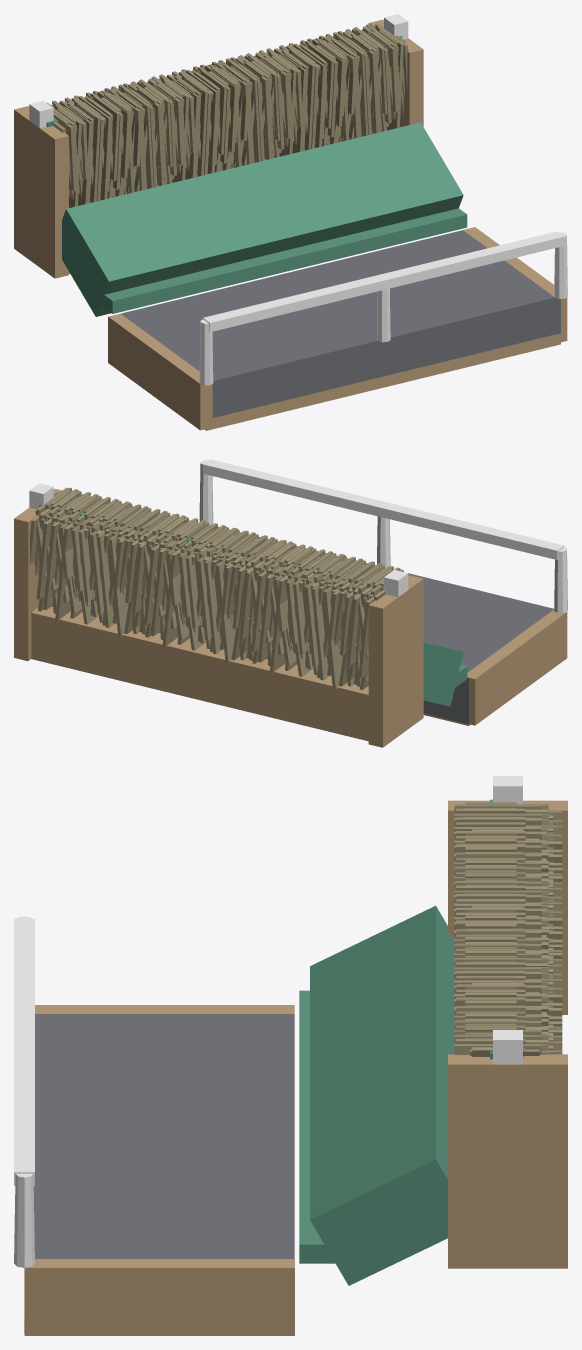
Rendered from racecourse-and-parade-ring-open-ditch-a25d2b48__38598.glb.
3 renders of one model, top to bottom at view 1: azimuth 30°, elevation 25°; view 2: azimuth 150°, elevation 25°; view 3: azimuth 270°, elevation 25°, orthographic. The views are drawn at different scales.
Parts seen in each view (by area): view 1: open-ditch; view 2: open-ditch; view 3: open-ditch.
Part boxes in pixels (x1,y1,x2,y2): open-ditch: (14,14,567,430); open-ditch: (14,459,567,747); open-ditch: (14,776,567,1335).
Size of the model in its own units: 4.16 by 2.2 by 3.69.
